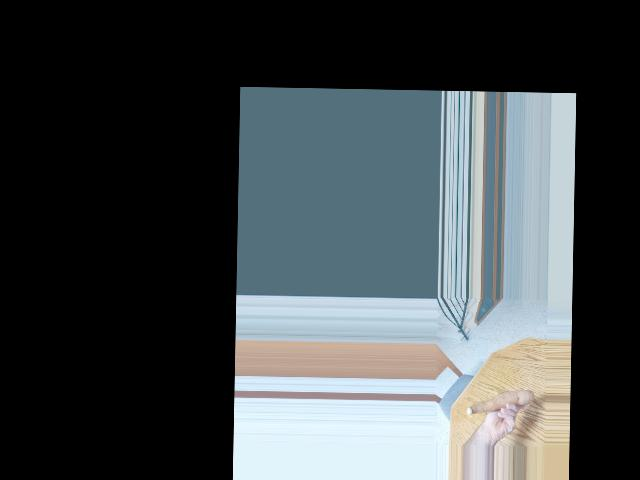sweet_potato: (465, 386, 532, 416)
